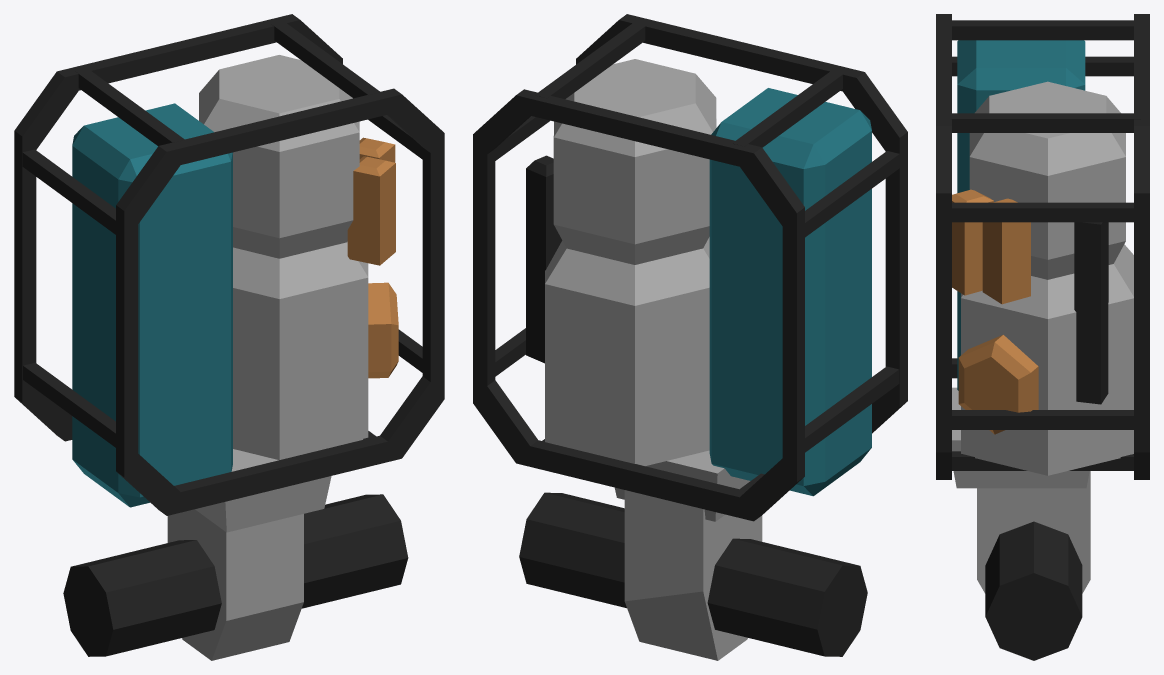
File: friend_body.fbx
3 renders of one model, left to right at view 1: azimuth 30°, elevation 25°; view 2: azimuth 150°, elevation 25°; view 3: azimuth 270°, elevation 25°, orthographic. The views are drawn at different scales.
Parts seen in each view (by area): view 1: friend_body; view 2: friend_body; view 3: friend_body.
Boxes of the visible parts, box(x1,y1,x2,y2) form: friend_body: box(14, 14, 444, 660); friend_body: box(473, 14, 907, 660); friend_body: box(936, 14, 1149, 660).
Size of the model in its own units: 2.08 by 3.45 by 1.24.
